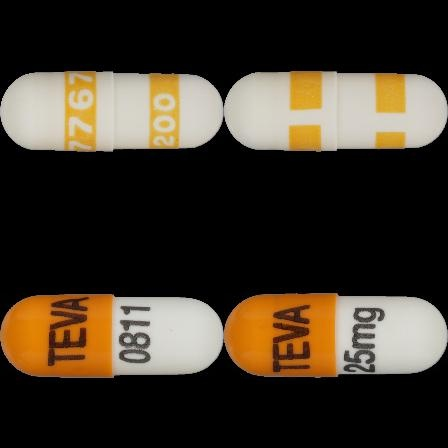61919-168: (0, 0, 224, 224)
